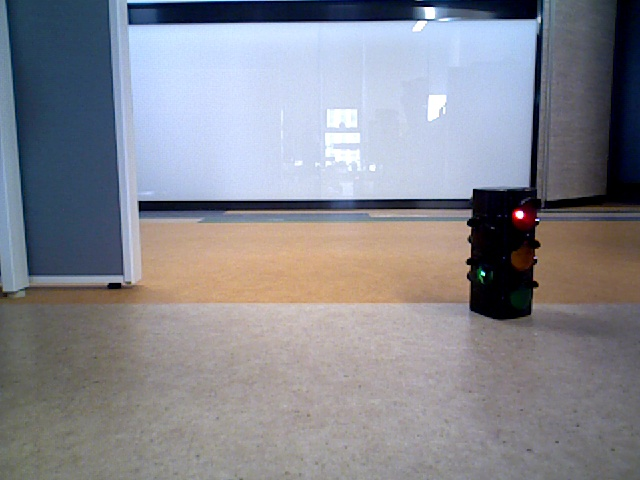red: (473, 191, 532, 317)
